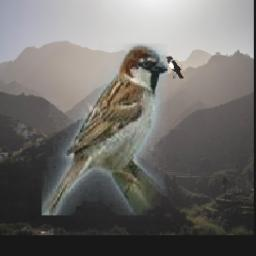Crow: (165, 56, 183, 78)
Sparrow: (42, 43, 167, 215)
